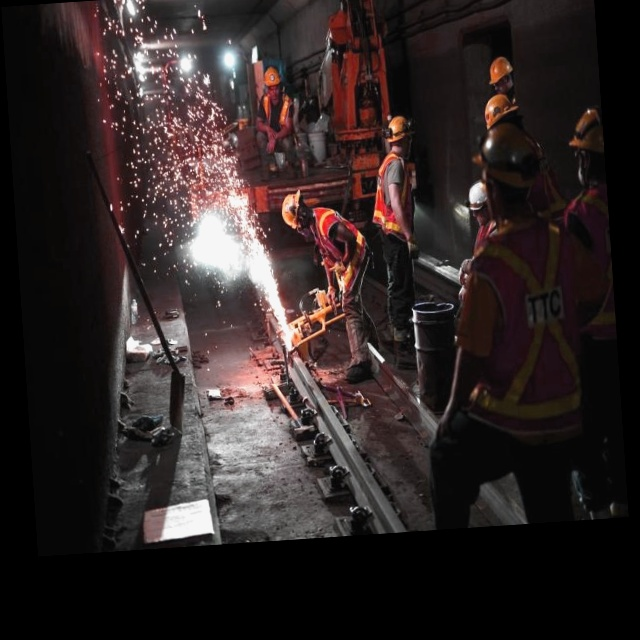Con_Casco: (280, 190, 311, 236), (481, 93, 518, 127), (385, 114, 415, 152), (488, 54, 515, 92), (263, 66, 282, 91)
Con_Chaleco: (313, 203, 367, 292), (371, 153, 418, 237), (262, 91, 294, 134)
